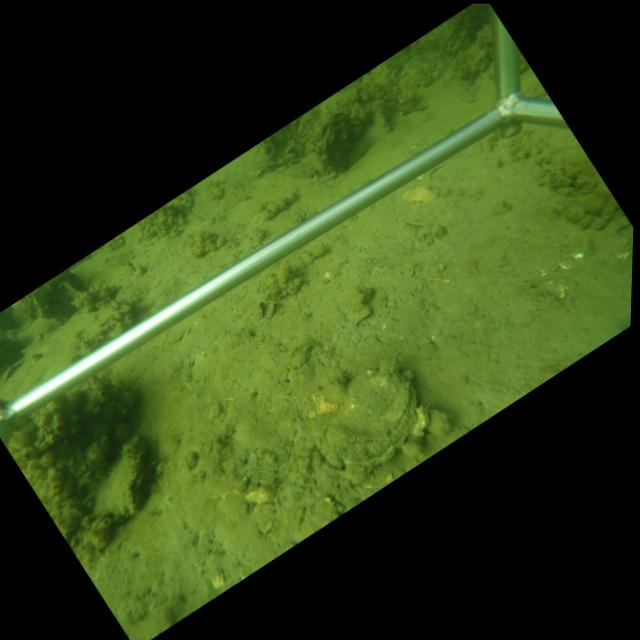Oyster-Closed: (320, 353, 426, 472), (314, 109, 356, 177)
Oyster-Indeterminate: (426, 409, 453, 437), (374, 105, 394, 134)
Oyster-Open: (96, 435, 152, 522)
